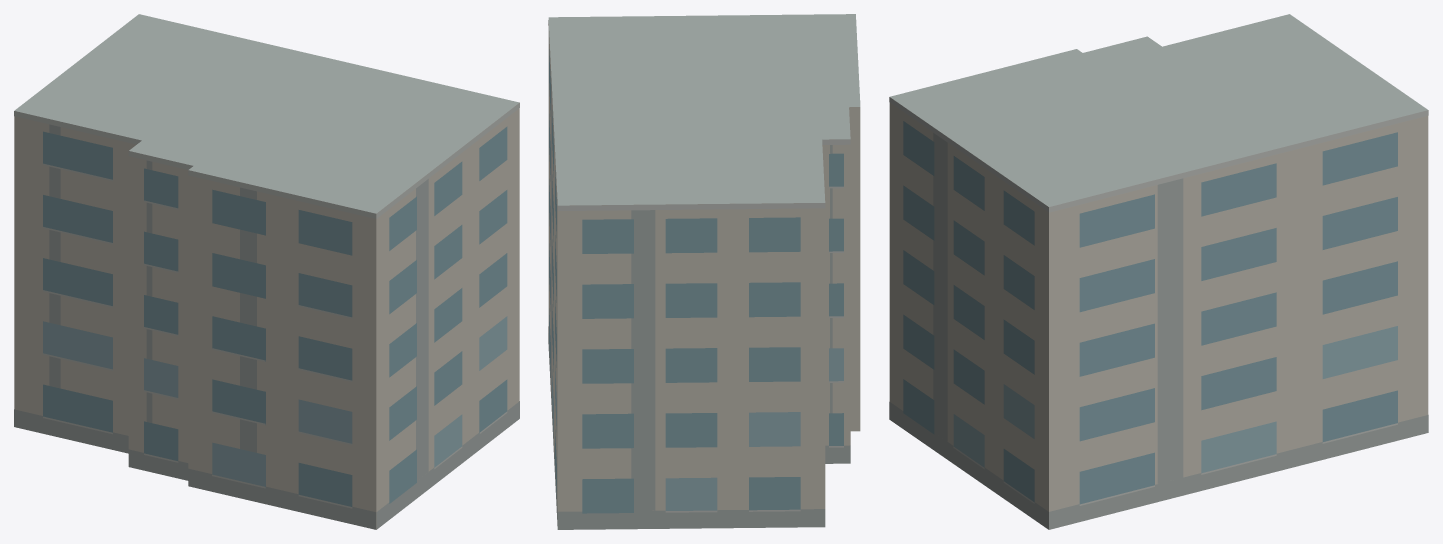
File: survey-upis-32798013.glb
3 views of the same model, side by side, from view 1: azimuth 30°, elevation 25°; view 2: azimuth 150°, elevation 25°; view 3: azimuth 270°, elevation 25° (orthographic). The views are drawn at different scales.
Visible parts, largest first — view 1: survey-upis-32798013.tmp; view 2: survey-upis-32798013.tmp; view 3: survey-upis-32798013.tmp.
Part boxes in pixels (bbox=[...]): survey-upis-32798013.tmp: bbox=[14, 14, 519, 529]; survey-upis-32798013.tmp: bbox=[548, 14, 860, 529]; survey-upis-32798013.tmp: bbox=[889, 14, 1428, 529].
Size of the model in its own units: 18.36 by 14.3 by 21.65.
